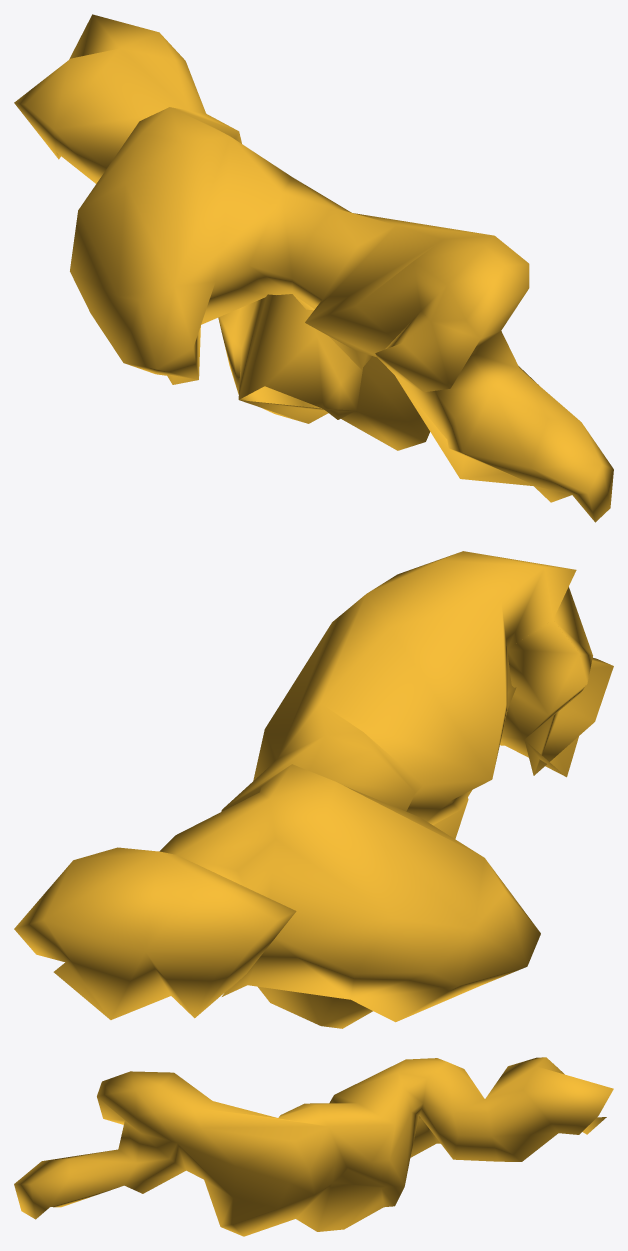
Rendered from nervoso-circular-sulcus-of-insula-r.glb.
3 renders of one model, top to bottom at view 1: azimuth 30°, elevation 25°; view 2: azimuth 150°, elevation 25°; view 3: azimuth 270°, elevation 25°, orthographic. The views are drawn at different scales.
Parts seen in each view (by area): view 1: Circular sulcus of insula.r; view 2: Circular sulcus of insula.r; view 3: Circular sulcus of insula.r.
Part boxes in pixels (bbox=[...]): Circular sulcus of insula.r: bbox=[14, 14, 613, 522]; Circular sulcus of insula.r: bbox=[14, 551, 613, 1028]; Circular sulcus of insula.r: bbox=[14, 1057, 613, 1236].
Size of the model in its own units: 0.0197 by 0.0179 by 0.0594.
